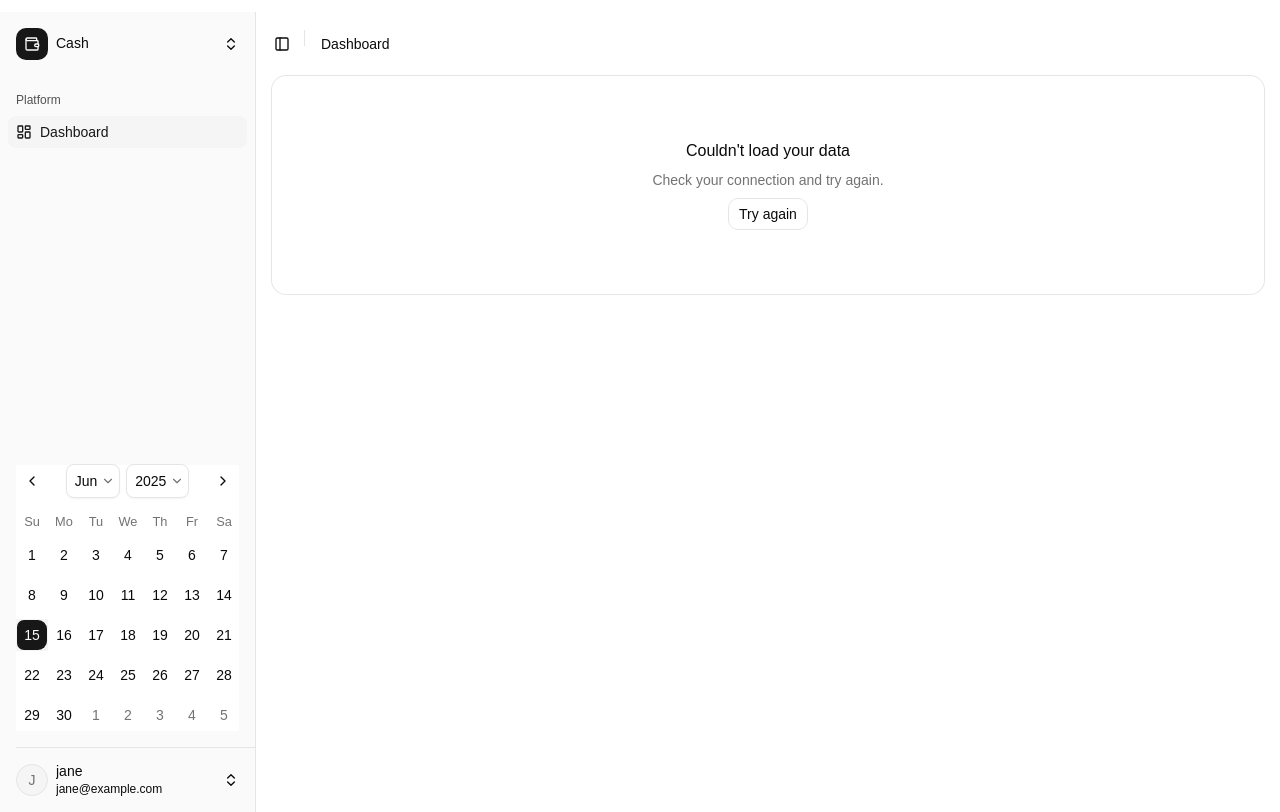
Dashboard loading and errors › offers a retry instead of a zero balance when the transactions fail to load
Expected: the text "Couldn't load your data" is shown, [686,140,850,162]
Expected: the text "Balance" is not shown
Click the button "Try again" at coordinates (768, 214), box [728,198,808,230]
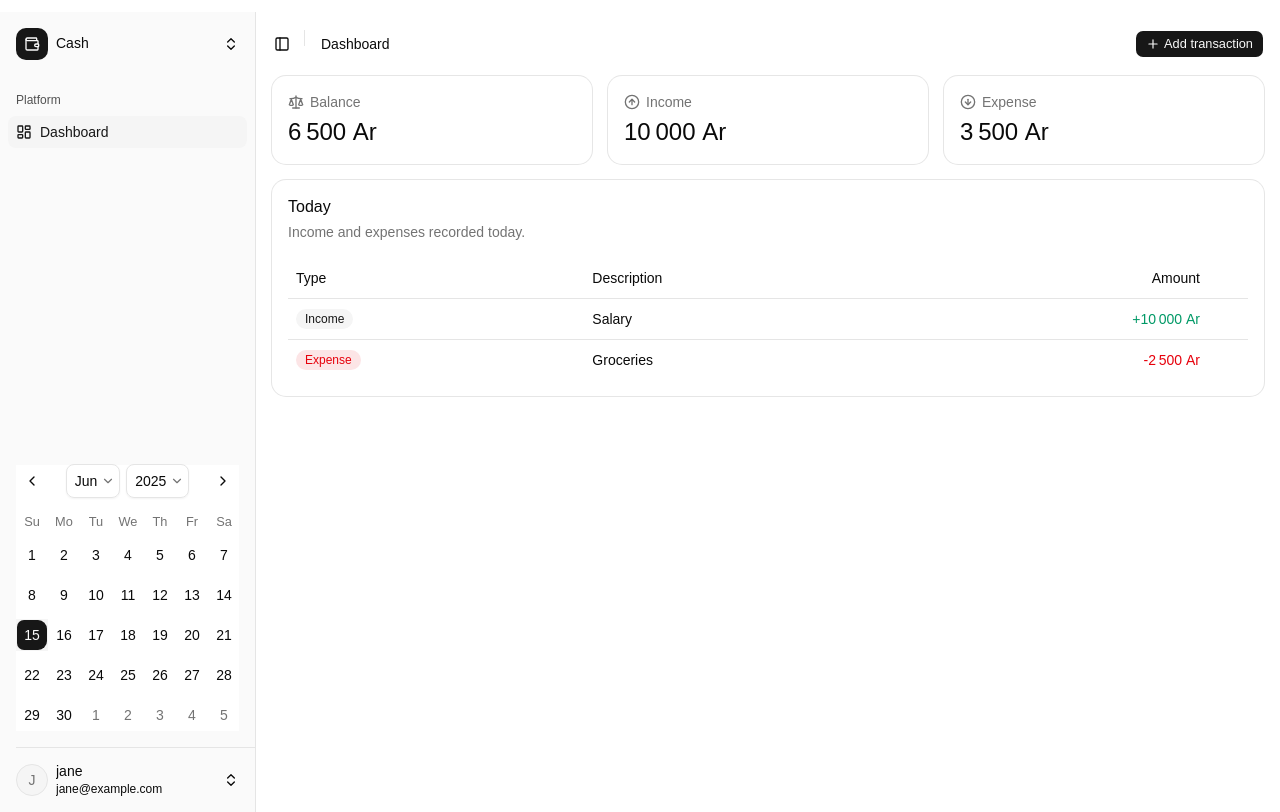
Result: the text "Balance" is shown at [288,94,361,110]
